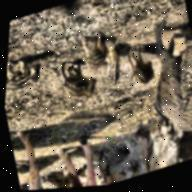boar: (5, 42, 54, 100), (50, 59, 106, 108), (123, 43, 166, 100), (74, 23, 119, 76), (95, 42, 136, 92)
